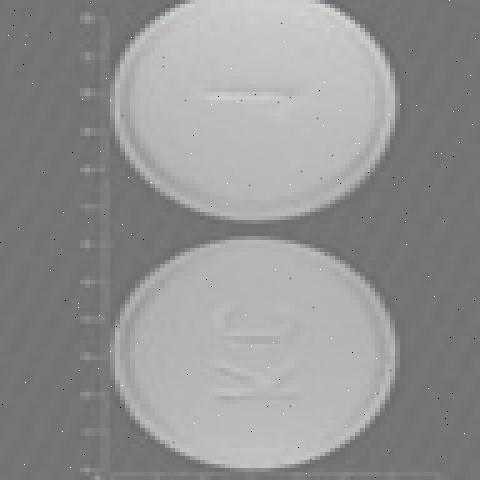Pill: (60, 228, 421, 475), (72, 9, 406, 225)
